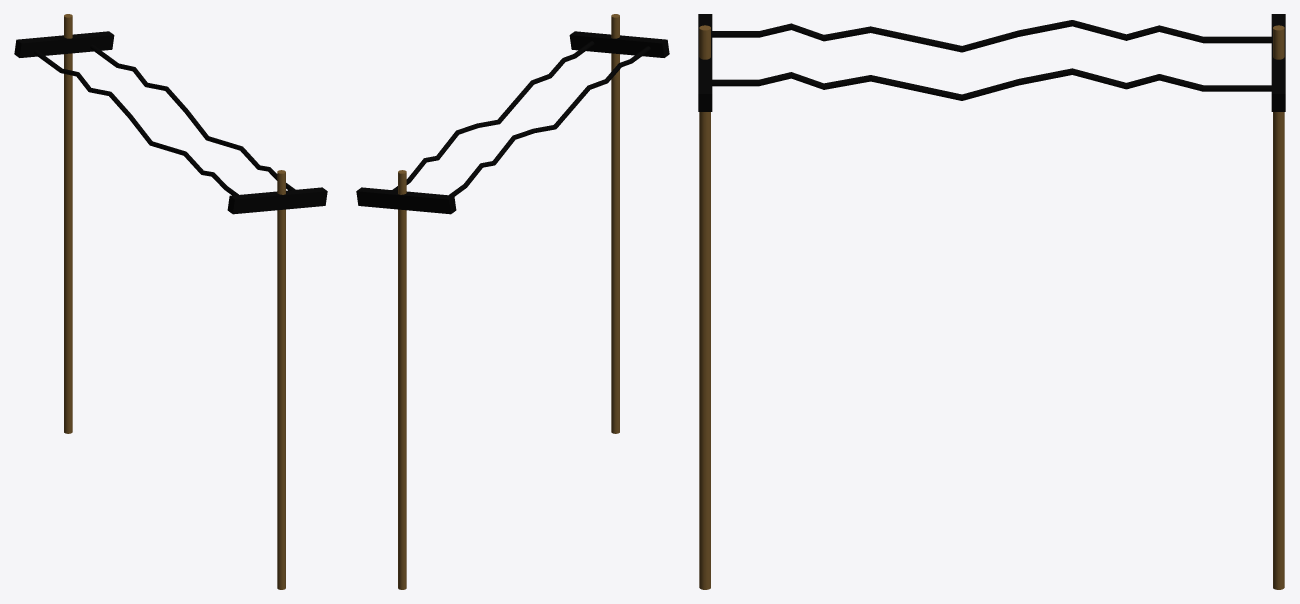
Rendered from Post.fbx.
The picture shows the model from 3 angles, left to right: view 1: azimuth 30°, elevation 25°; view 2: azimuth 150°, elevation 25°; view 3: azimuth 270°, elevation 25°; orthographic projection. The views are drawn at different scales.
Parts seen in each view (by area): view 1: Cylinder.007, Cylinder.018, Cylinder.016, Cylinder.017; view 2: Cylinder.018, Cylinder.007, Cylinder.016, Cylinder.017; view 3: Cylinder.007, Cylinder.018, Cylinder.016, Cylinder.017.
Boxes of the visible parts, <box> form: Cylinder.007: <box>227,170,327,589</box>; Cylinder.018: <box>14,14,114,433</box>; Cylinder.016: <box>34,50,238,195</box>; Cylinder.017: <box>90,44,295,190</box>; Cylinder.018: <box>356,170,456,589</box>; Cylinder.007: <box>569,14,669,433</box>; Cylinder.016: <box>449,46,650,196</box>; Cylinder.017: <box>392,41,594,190</box>; Cylinder.007: <box>698,14,712,589</box>; Cylinder.018: <box>1271,14,1285,589</box>; Cylinder.016: <box>712,20,1271,52</box>; Cylinder.017: <box>712,68,1271,100</box>.
Size of the model in its own units: 202 by 848 by 807.
